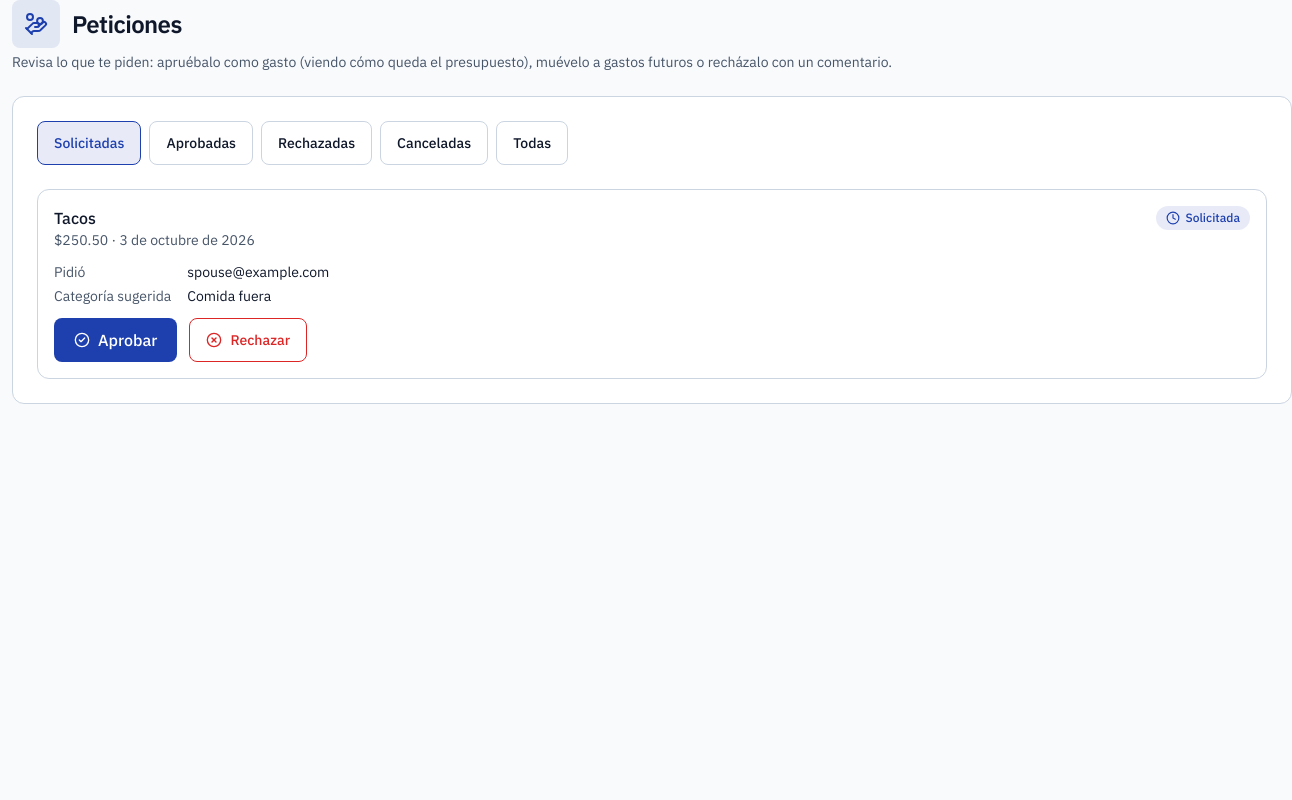
Scenario: owner view › lists the pending requests first and filters by state
Expected: the text "Tacos" is shown, [54, 208, 96, 228]
Expected: the text "spouse@example.com" is shown, [187, 263, 329, 281]
Click the button "Rechazadas". click: (317, 143)
box: [261, 121, 372, 165]
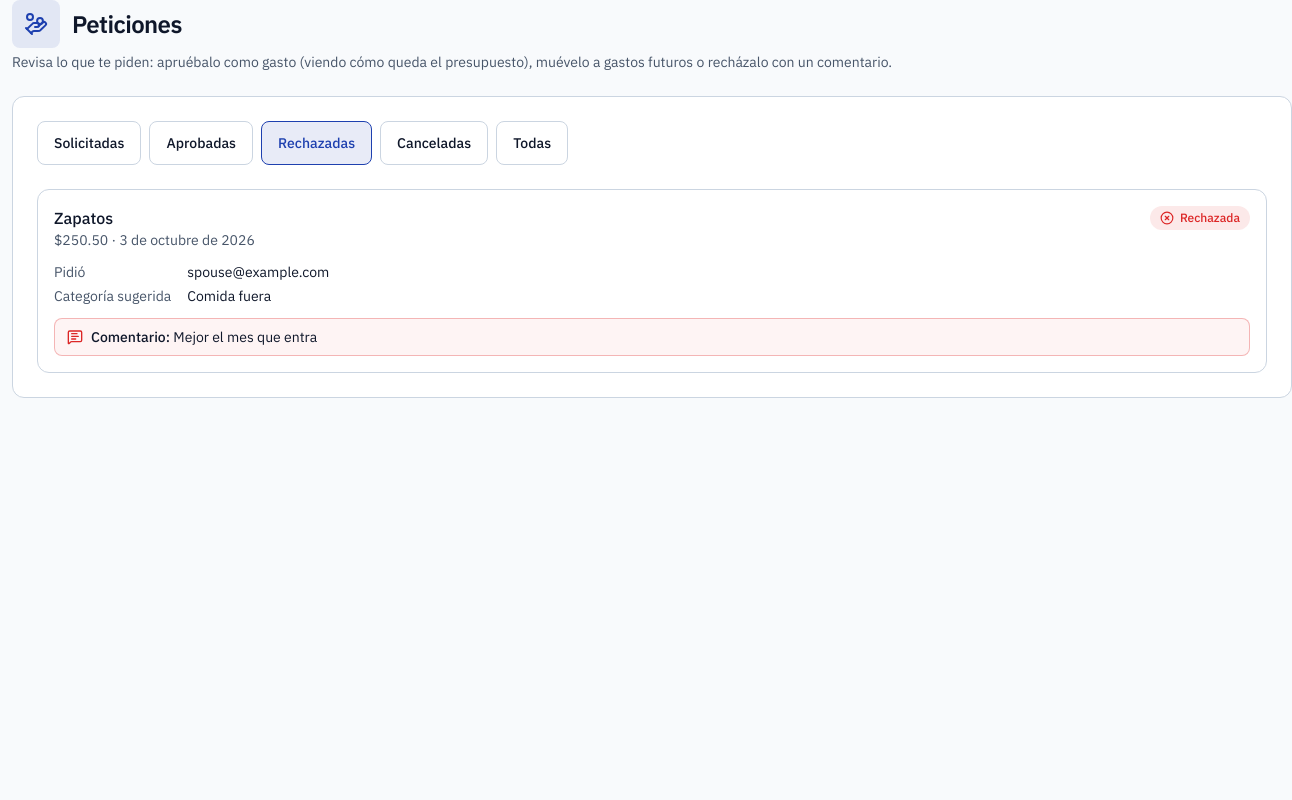
Result: the text "Zapatos" is shown at [54, 208, 113, 228]
Click the button "Todas". click: (532, 143)
box: [496, 121, 568, 165]
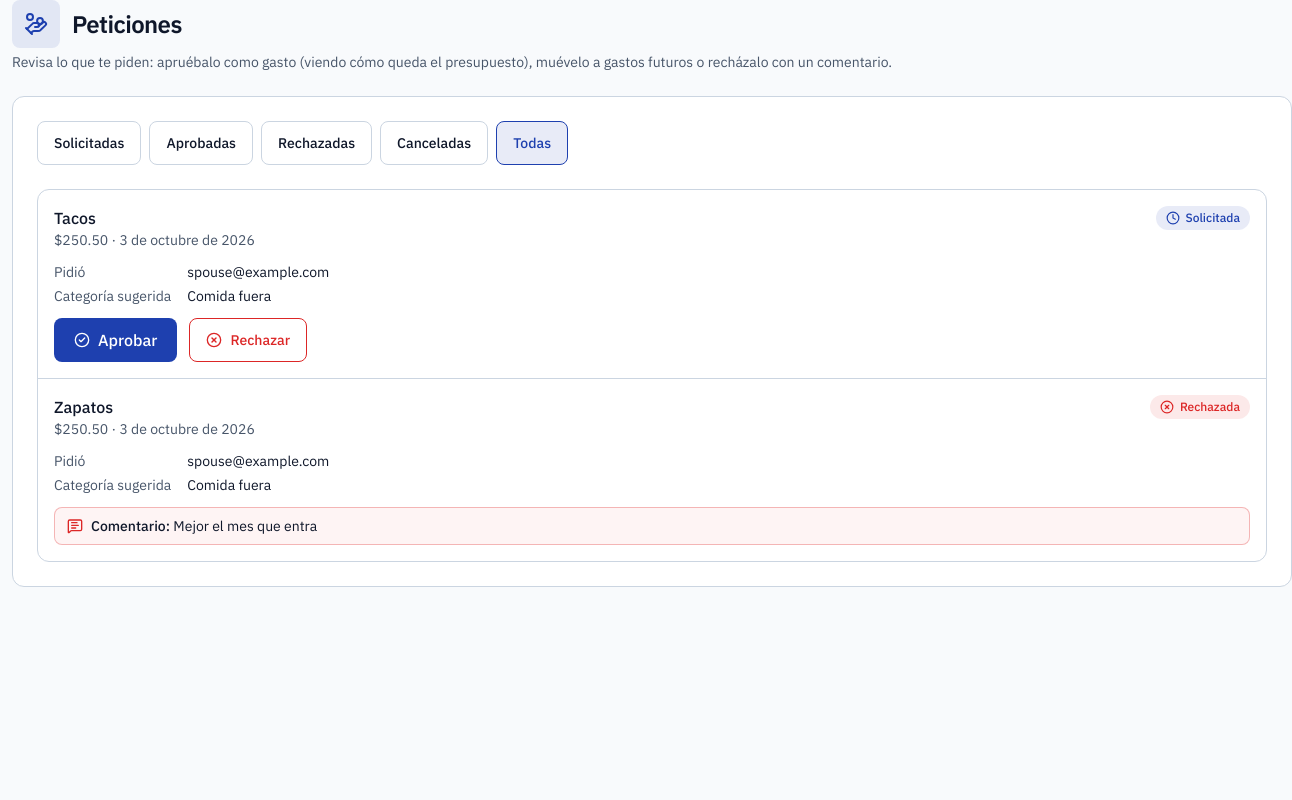
Result: the number of list items with test id "request-card" is 2 at [38, 190, 1266, 378]; [38, 378, 1266, 561]
